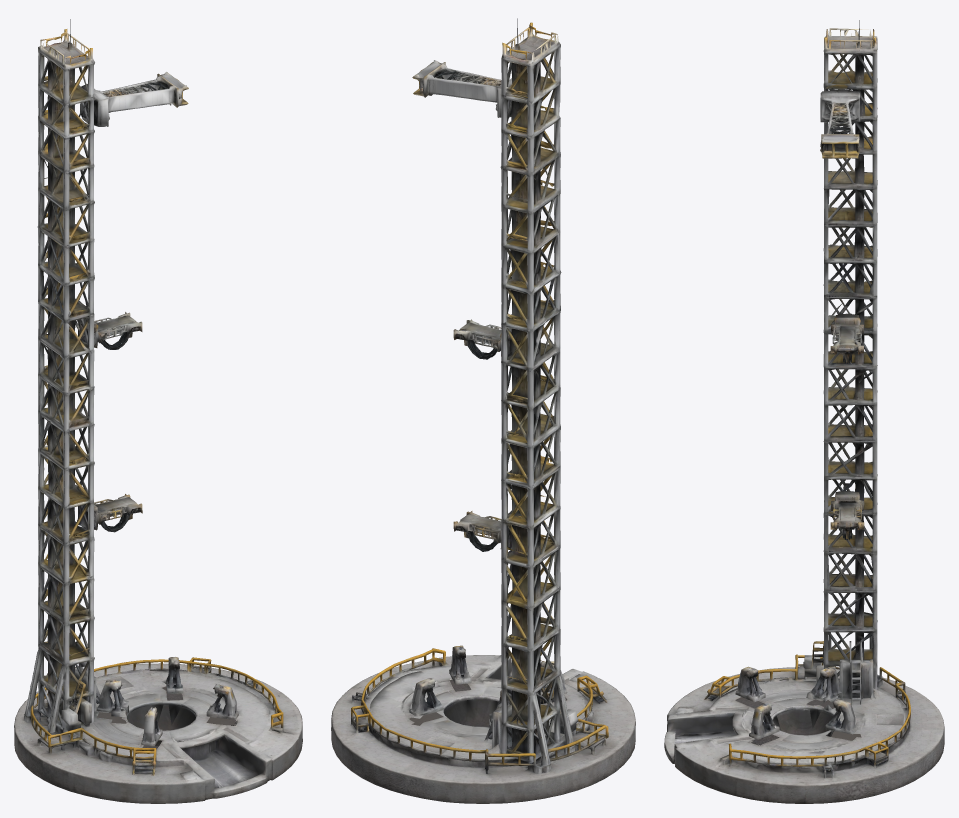
The model's file is launch-pad.glb.
3 views of the same model, side by side, from view 1: azimuth 30°, elevation 25°; view 2: azimuth 150°, elevation 25°; view 3: azimuth 270°, elevation 25° (orthographic). The views are drawn at different scales.
Parts seen in each view (by area): view 1: SM_foundation-shell, SM_tower-lower, SM_tower-upper, SM_crew-arm, SM_umbilical-lower, SM_umbilical-upper, SM_flame-deflector, SM_clamp-nw, SM_clamp-se, SM_access-stairs, SM_clamp-sw; view 2: SM_foundation-shell, SM_tower-lower, SM_tower-upper, SM_crew-arm, SM_umbilical-upper, SM_umbilical-lower, SM_flame-deflector, SM_clamp-ne, SM_clamp-se; view 3: SM_foundation-shell, SM_tower-lower, SM_tower-upper, SM_crew-arm, SM_umbilical-upper, SM_umbilical-lower, SM_flame-deflector, SM_tower-foot-b, SM_clamp-nw, SM_clamp-ne, SM_clamp-se, SM_clamp-sw (+1 smaller).
Part boxes in pixels (x1,y1,x2,y2): SM_foundation-shell: (14, 657, 302, 803); SM_tower-lower: (25, 302, 97, 732); SM_tower-upper: (37, 19, 94, 323); SM_crew-arm: (80, 72, 188, 126); SM_umbilical-lower: (77, 494, 142, 532); SM_umbilical-upper: (77, 312, 142, 349); SM_flame-deflector: (127, 704, 195, 746); SM_clamp-nw: (96, 680, 128, 716); SM_clamp-se: (206, 684, 238, 719); SM_access-stairs: (130, 747, 156, 775); SM_clamp-sw: (141, 707, 162, 746); SM_foundation-shell: (331, 648, 635, 803); SM_tower-lower: (501, 310, 578, 765); SM_tower-upper: (500, 18, 561, 339); SM_crew-arm: (412, 60, 511, 117); SM_umbilical-upper: (453, 319, 511, 359); SM_umbilical-lower: (453, 511, 511, 551); SM_flame-deflector: (444, 699, 498, 726); SM_clamp-ne: (409, 678, 443, 718); SM_clamp-se: (449, 645, 471, 684); SM_foundation-shell: (664, 654, 944, 803); SM_tower-lower: (803, 294, 877, 691); SM_tower-upper: (823, 20, 877, 305); SM_crew-arm: (820, 89, 860, 158); SM_umbilical-upper: (830, 313, 863, 363); SM_umbilical-lower: (829, 490, 864, 539); SM_flame-deflector: (777, 709, 833, 737); SM_tower-foot-b: (838, 641, 875, 700); SM_clamp-nw: (806, 667, 842, 702); SM_clamp-ne: (825, 699, 861, 733); SM_clamp-se: (749, 703, 779, 739); SM_clamp-sw: (735, 666, 765, 702).
Size of the model in its own units: 19.6 by 54 by 19.52.
Materials: 15 (15 with a texture image).
